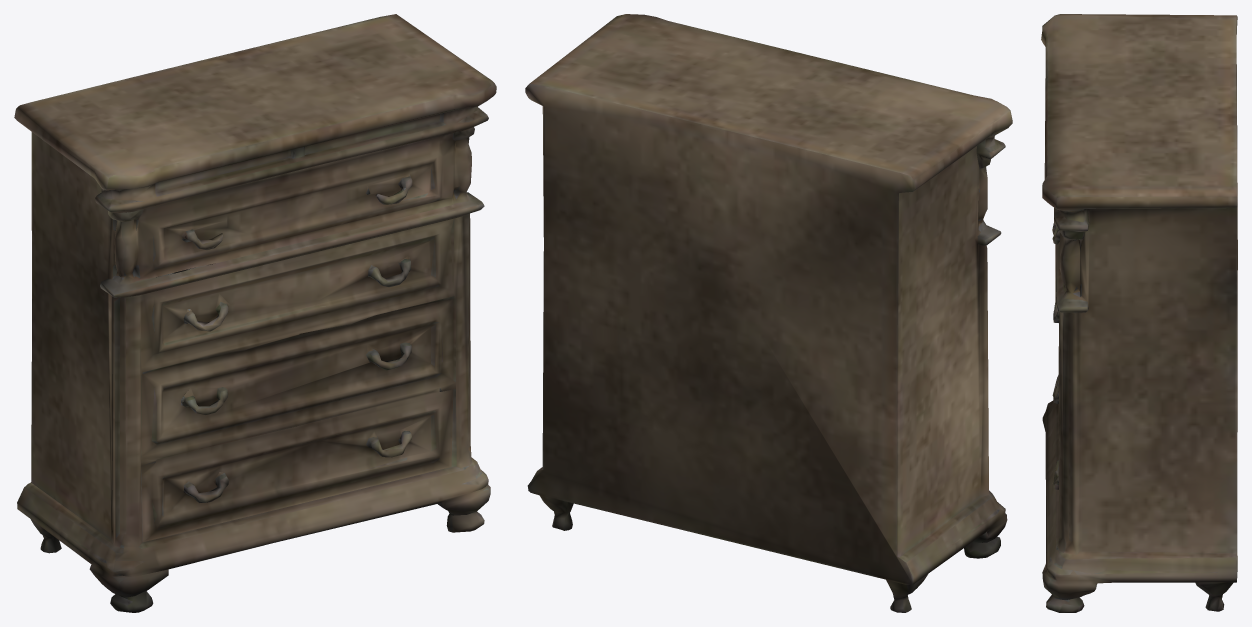
Rendered from ornate-wood-filing-cabinet-v001.glb.
The picture shows the model from 3 angles, left to right: view 1: azimuth 30°, elevation 25°; view 2: azimuth 150°, elevation 25°; view 3: azimuth 270°, elevation 25°; orthographic projection. The views are drawn at different scales.
Parts seen in each view (by area): view 1: ornate-wood-filing-cabinet; view 2: ornate-wood-filing-cabinet; view 3: ornate-wood-filing-cabinet.
Boxes of the visible parts, left/top/right/bottom form: ornate-wood-filing-cabinet: left=14, top=14, right=496, bottom=612; ornate-wood-filing-cabinet: left=525, top=14, right=1012, bottom=612; ornate-wood-filing-cabinet: left=1041, top=14, right=1237, bottom=612.
Size of the model in its own units: 1.13 by 1.22 by 0.508.
Materials: 1 (1 with a texture image).
